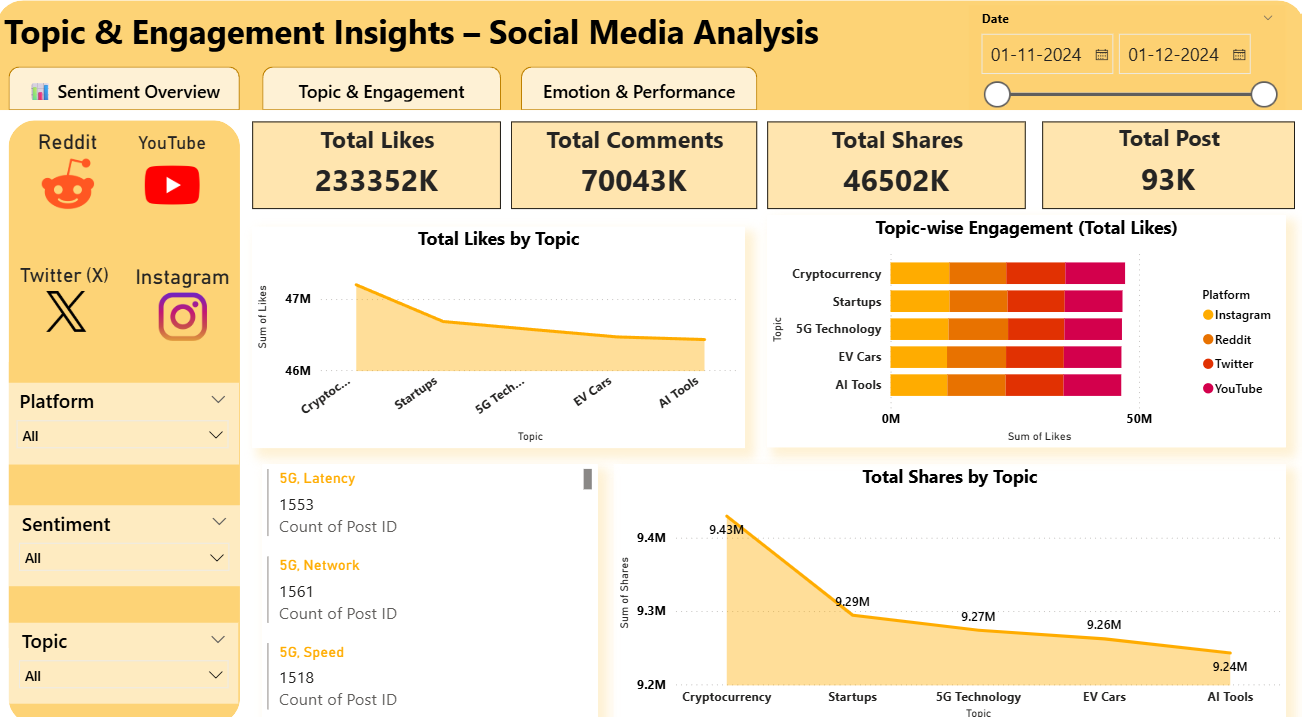

The page's visual inventory and layout, read from the dashboard file:
{"tool":"powerbi","page":{"name":"Topic & Engagement Analysis","canvas":[1280,720],"ordinal":1},"visuals":[{"type":"shape","box":[0,11,1280.3,107.6],"z":0},{"type":"shape","box":[12.2,75.8,226.2,42.8],"z":1000},{"type":"shape","box":[260.5,75.8,233.6,42.8],"z":2000},{"type":"shape","box":[513.6,75.8,231.1,42.8],"z":3000},{"type":"shape","box":[12,128.9,226.5,591.6],"z":4000},{"type":"image","title":"Instagram","box":[127.2,268.7,110.8,80],"z":5000},{"type":"image","title":"Twitter (X)","box":[18.5,268.7,100.5,71.8],"z":6000},{"type":"image","title":"Reddit","box":[18.1,137.3,103.6,84.3],"z":7000},{"type":"slicer","fields":{"Values":["Social_Media_Sentiment_Analysis_3.Platform"]},"box":[10.3,385.6,227.7,80],"z":8000},{"type":"slicer","fields":{"Values":["Social_Media_Sentiment_Analysis_3.Topic"]},"box":[12.2,620,225,79.5],"z":9000},{"type":"slicer","fields":{"Values":["Social_Media_Sentiment_Analysis_3.Sentiment"]},"box":[12.2,505,226.2,79.5],"z":10000},{"type":"image","title":"YouTube","box":[127.2,139.5,90.3,84.1],"z":11000},{"type":"areaChart","title":"Total Likes by Topic","fields":{"Category":["Social_Media_Sentiment_Analysis_3.Topic"],"Y":["Sum(Social_Media_Sentiment_Analysis_3.Likes)"]},"box":[250.7,232.3,481.8,216.4],"z":12000},{"type":"areaChart","title":"Total Shares by Topic","fields":{"Category":["Social_Media_Sentiment_Analysis_3.Topic"],"Y":["Sum(Social_Media_Sentiment_Analysis_3.Shares)"]},"box":[604.1,464.7,657.9,255.6],"z":13000},{"type":"multiRowCard","title":"Most Mentioned Keywords by Volume","fields":{"Values":["Social_Media_Sentiment_Analysis_3.Keyword Tags","CountNonNull(Social_Media_Sentiment_Analysis_3.Post ID)"]},"box":[260.5,464.7,327.7,255.6],"z":14000},{"type":"slicer","fields":{"Values":["Social_Media_Sentiment_Analysis_3.Date"]},"box":[951.4,15.9,310.6,102.7],"z":15000},{"type":"barChart","title":"Topic-wise Engagement (Total Likes)","fields":{"Category":["Social_Media_Sentiment_Analysis_3.Topic"],"Series":["Social_Media_Sentiment_Analysis_3.Platform"],"Y":["Sum(Social_Media_Sentiment_Analysis_3.Likes)"]},"box":[754.5,221.3,507.5,227.4],"z":16000},{"type":"card","title":"Total Shares","fields":{"Values":["Sum(Social_Media_Sentiment_Analysis_3.Shares)"]},"box":[754.5,129.6,253.1,85.6],"z":17000},{"type":"card","title":"Total Post","fields":{"Values":["CountNonNull(Social_Media_Sentiment_Analysis_3.Post ID)"]},"box":[1023.5,129.6,247,85.6],"z":18000},{"type":"card","title":"Total Comments","fields":{"Values":["Sum(Social_Media_Sentiment_Analysis_3.Comments)"]},"box":[503.8,129.6,240.9,85.6],"z":19000},{"type":"card","title":"Total Likes ","fields":{"Values":["Sum(Social_Media_Sentiment_Analysis_3.Likes)"]},"box":[250.7,129.6,243.3,85.6],"z":20000}]}

Visuals, with their boxes in screenshot pixels (x1, y1, x2, y2), scaled from the page's 1280x720 canvas onto the 1302x717 screenshot:
shape: box=[0, 11, 1301, 118]
shape: box=[12, 75, 242, 118]
shape: box=[265, 75, 503, 118]
shape: box=[522, 75, 757, 118]
shape: box=[12, 128, 243, 716]
"Instagram" image: box=[129, 268, 242, 347]
"Twitter (X)" image: box=[19, 268, 121, 339]
"Reddit" image: box=[18, 137, 124, 221]
slicer - Social_Media_Sentiment_Analysis_3.Platform: box=[10, 384, 242, 464]
slicer - Social_Media_Sentiment_Analysis_3.Topic: box=[12, 617, 241, 697]
slicer - Social_Media_Sentiment_Analysis_3.Sentiment: box=[12, 503, 242, 582]
"YouTube" image: box=[129, 139, 221, 223]
"Total Likes by Topic" areaChart: box=[255, 231, 745, 447]
"Total Shares by Topic" areaChart: box=[614, 463, 1284, 716]
"Most Mentioned Keywords by Volume" multiRowCard: box=[265, 463, 598, 716]
slicer - Social_Media_Sentiment_Analysis_3.Date: box=[968, 16, 1284, 118]
"Topic-wise Engagement (Total Likes)" barChart: box=[767, 220, 1284, 447]
"Total Shares" card: box=[767, 129, 1025, 214]
"Total Post" card: box=[1041, 129, 1292, 214]
"Total Comments" card: box=[512, 129, 757, 214]
"Total Likes " card: box=[255, 129, 502, 214]
